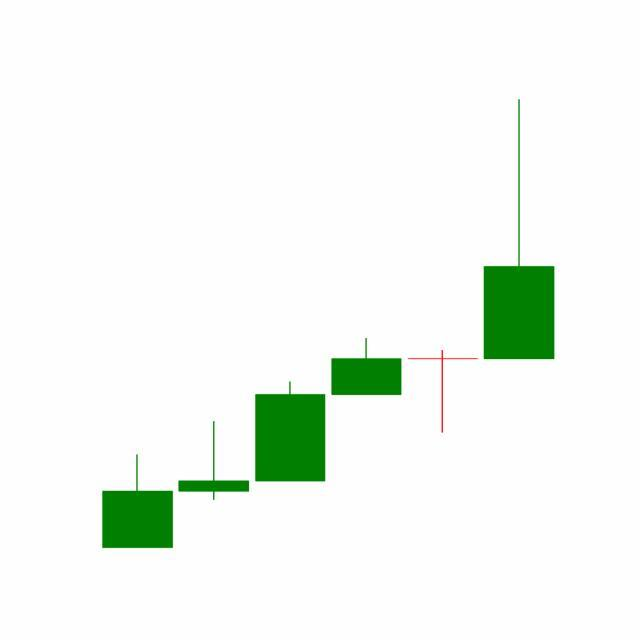Dragonfly Doji: (404, 349, 482, 435)
